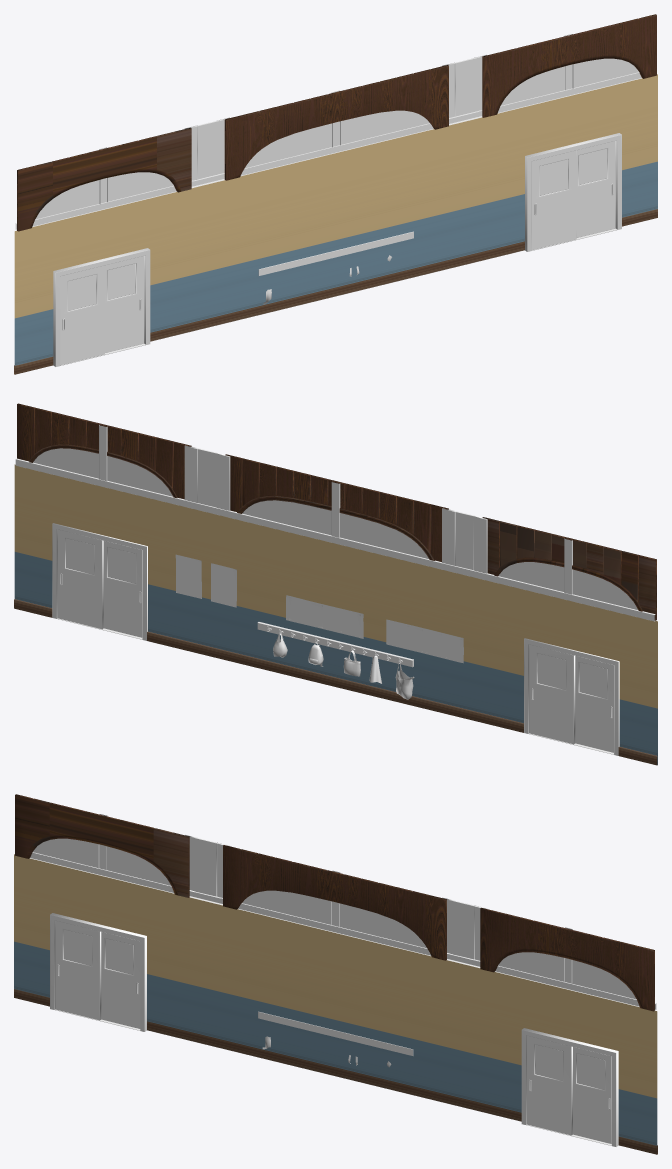
File: a_sch_class1d_hallwaywall01.gltf
3 renders of one model, top to bottom at view 1: azimuth 30°, elevation 25°; view 2: azimuth 150°, elevation 25°; view 3: azimuth 330°, elevation 25°, orthographic.
Visible parts, largest first — view 1: um_a_sch_class1d_hallwaywall01_model_a_sch_class1d_hallwaywa (×5); view 2: um_a_sch_class1d_hallwaywall01_model_a_sch_class1d_hallwaywa (×6); view 3: um_a_sch_class1d_hallwaywall01_model_a_sch_class1d_hallwaywa (×5).
Part boxes in pixels (x1,y1,x2,y2): um_a_sch_class1d_hallwaywall01_model_a_sch_class1d_hallwaywa (×5): [14, 14, 657, 374]; um_a_sch_class1d_hallwaywall01_model_a_sch_class1d_hallwaywa (×6): [14, 403, 657, 765]; um_a_sch_class1d_hallwaywall01_model_a_sch_class1d_hallwaywa (×5): [14, 794, 657, 1154].
Size of the model in its own units: 15 by 4.55 by 0.3971.
Materials: 6 (2 with a texture image).
